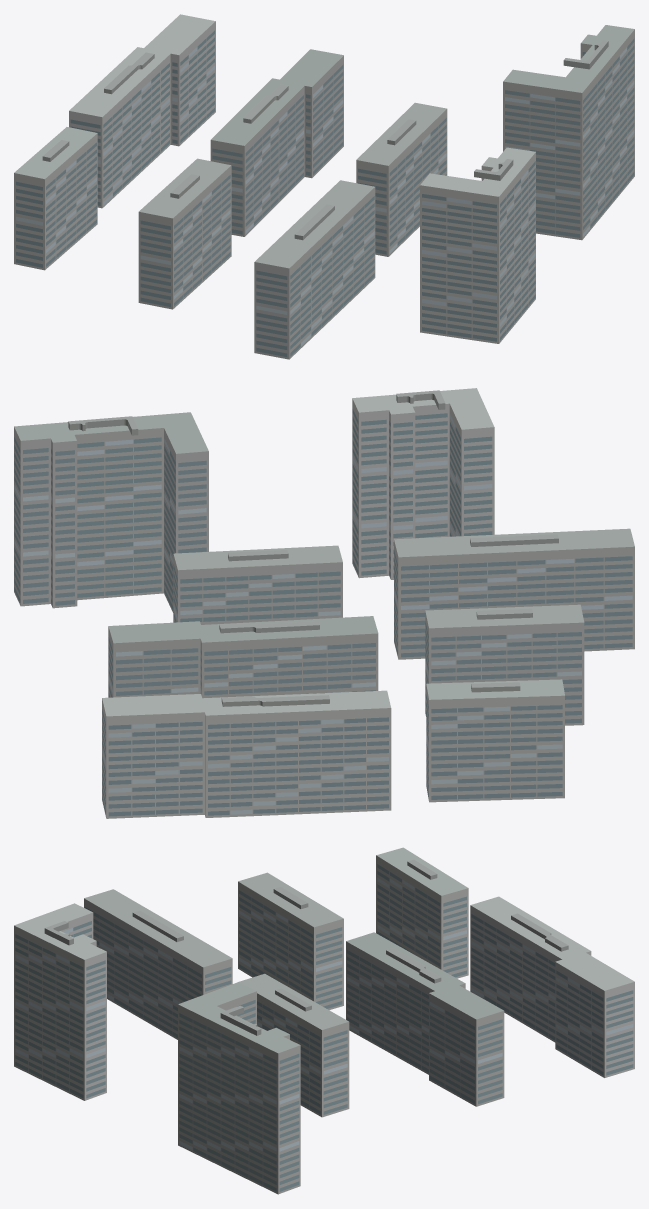
File: apt-a13524005.glb
3 renders of one model, top to bottom at view 1: azimuth 30°, elevation 25°; view 2: azimuth 150°, elevation 25°; view 3: azimuth 270°, elevation 25°, orthographic. The views are drawn at different scales.
Visible parts, largest first — view 1: apt-a13524005; view 2: apt-a13524005; view 3: apt-a13524005.
Part boxes in pixels (box(x1,y1,x2,y2)): apt-a13524005: box(14, 14, 634, 359); apt-a13524005: box(14, 388, 634, 818); apt-a13524005: box(14, 847, 634, 1194).
Size of the model in its own units: 253 by 66.45 by 256.
